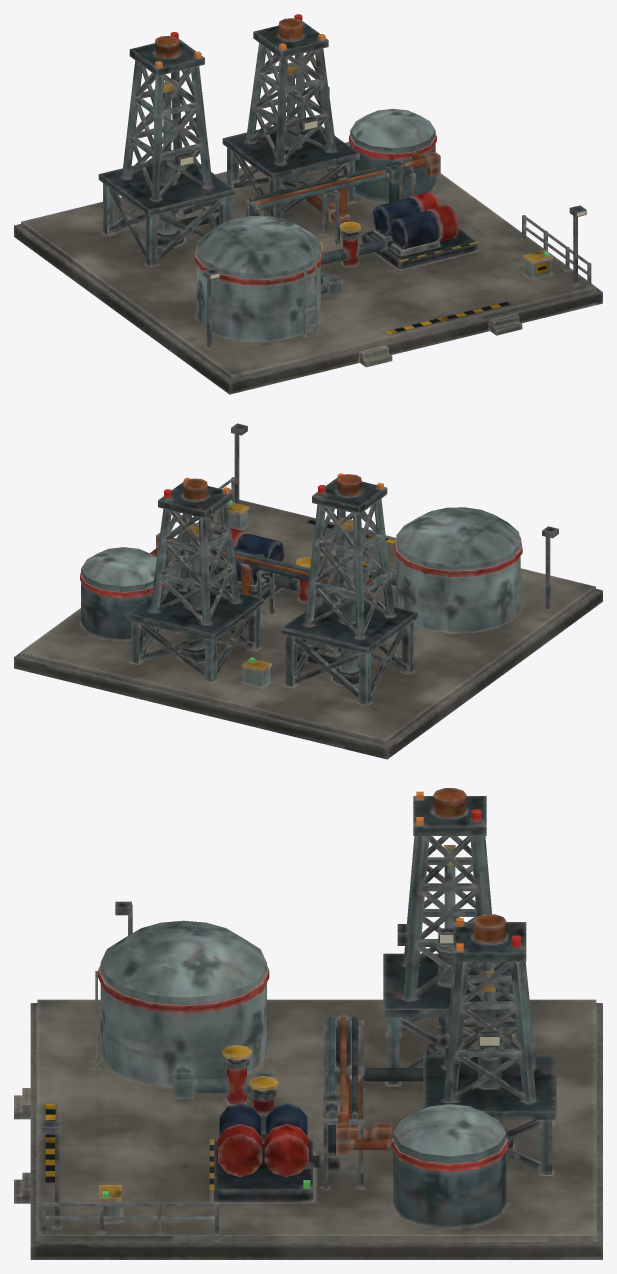
The model's file is big_pump.glb.
3 renders of one model, top to bottom at view 1: azimuth 30°, elevation 25°; view 2: azimuth 150°, elevation 25°; view 3: azimuth 270°, elevation 25°, orthographic. The views are drawn at different scales.
Visible parts, largest first — view 1: te_big_pump; view 2: te_big_pump; view 3: te_big_pump.
Part boxes in pixels (x1,y1,x2,y2): te_big_pump: (14,14,602,394); te_big_pump: (14,423,602,759); te_big_pump: (14,788,602,1259).
Bounding box in the file's own units: 1.72 × 0.945 × 1.77.
1 material, 1 textured.
